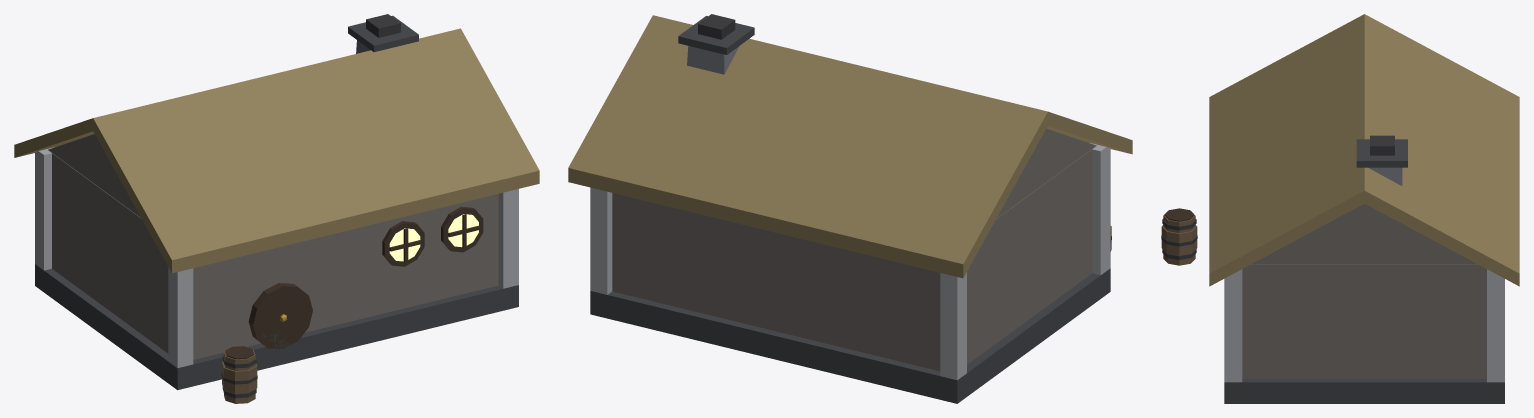
File: bree_house_hobbit_2.glb
3 views of the same model, side by side, from view 1: azimuth 30°, elevation 25°; view 2: azimuth 150°, elevation 25°; view 3: azimuth 270°, elevation 25° (orthographic). The views are drawn at different scales.
Visible parts, largest first — view 1: bree_house_hobbit_2; view 2: bree_house_hobbit_2; view 3: bree_house_hobbit_2.
Boxes of the visible parts, x1,y1,x2,y2 form: bree_house_hobbit_2: (14, 14, 539, 403); bree_house_hobbit_2: (568, 14, 1132, 403); bree_house_hobbit_2: (1161, 14, 1519, 403).
Size of what is drawn, in the model's own units: 7 by 4.37 by 6.01.
